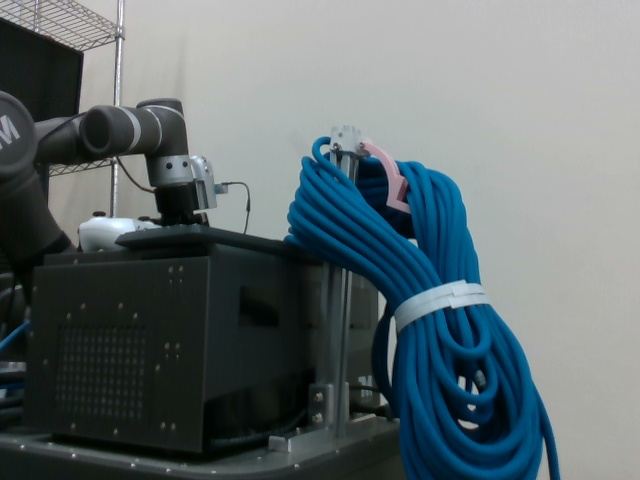rope: (284, 131, 565, 480)
